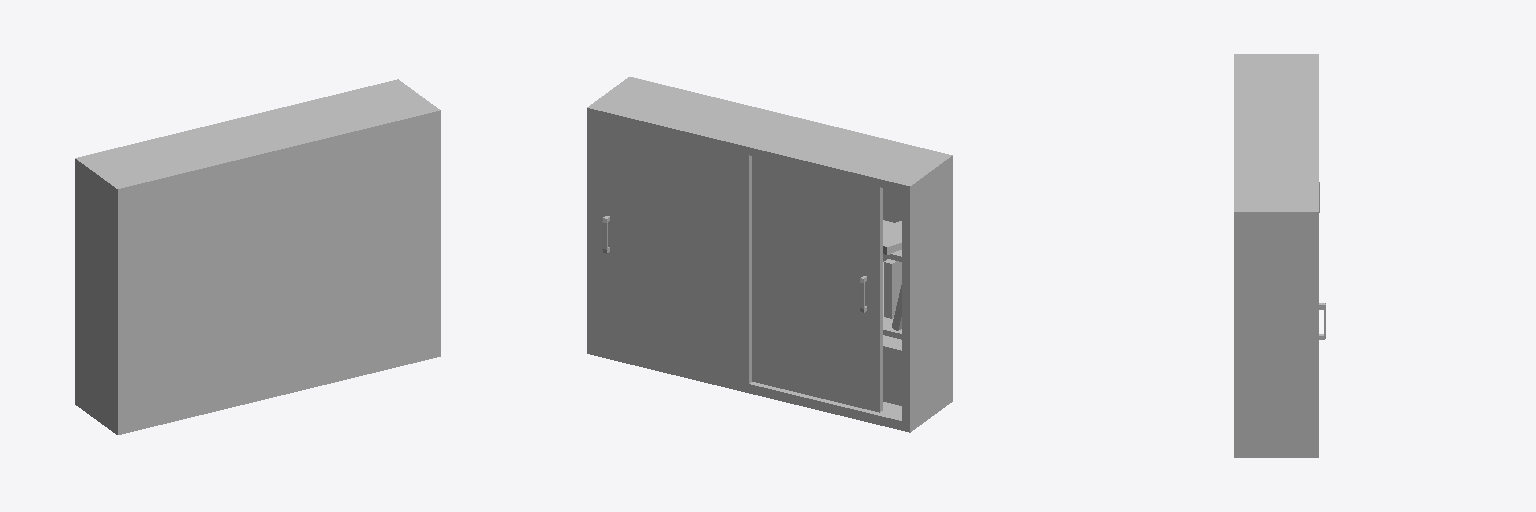
The model's file is Bookshelf05.obj.
3 renders of one model, left to right at view 1: azimuth 30°, elevation 25°; view 2: azimuth 150°, elevation 25°; view 3: azimuth 270°, elevation 25°, orthographic.
Visible parts, largest first — view 1: Bookshelf05_LOD0_Bookshelf05.001; view 2: Bookshelf05_LOD0_Bookshelf05.001; view 3: Bookshelf05_LOD0_Bookshelf05.001.
Boxes of the visible parts, x1,y1,x2,y2 form: Bookshelf05_LOD0_Bookshelf05.001: [75, 79, 440, 434]; Bookshelf05_LOD0_Bookshelf05.001: [587, 77, 952, 432]; Bookshelf05_LOD0_Bookshelf05.001: [1234, 54, 1325, 457].
Size of the model in its own units: 1.41 by 1.02 by 0.3495.